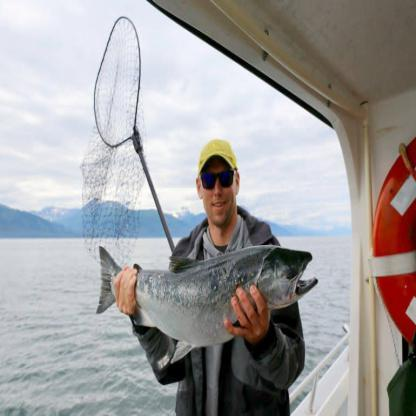fish: (95, 242, 318, 366)
